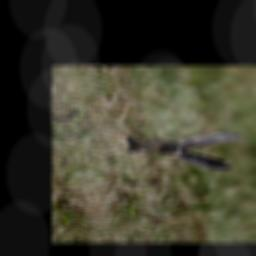Swallow: (121, 122, 255, 181)
